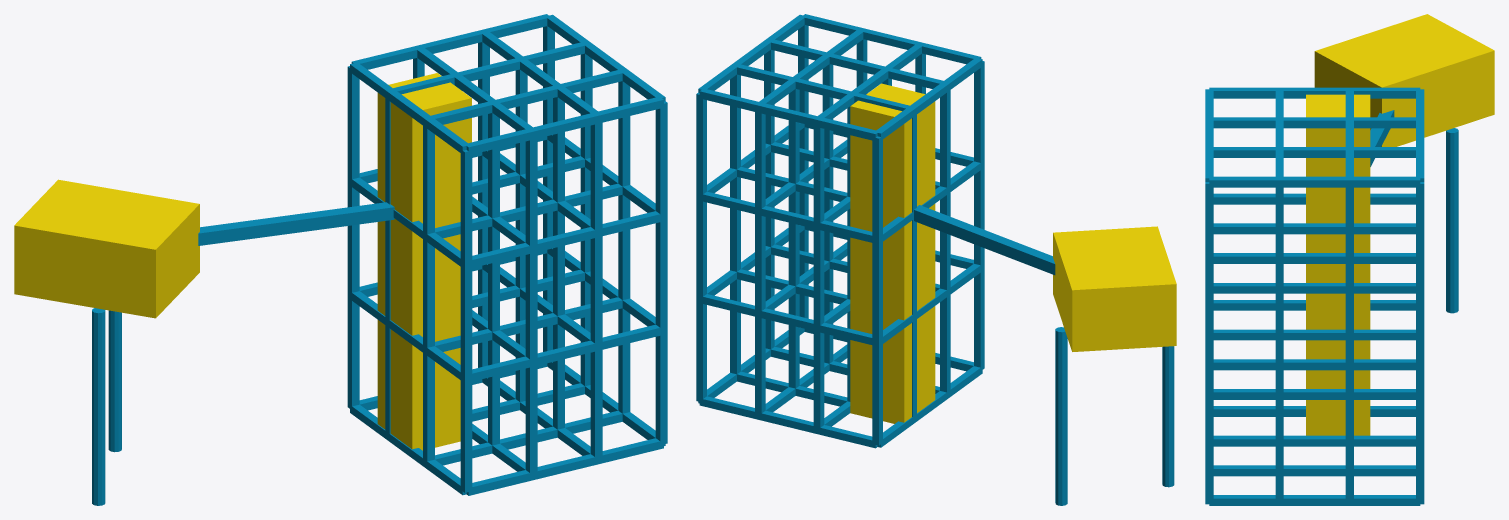
File: folie_tag_025.glb
The picture shows the model from 3 angles, left to right: view 1: azimuth 30°, elevation 25°; view 2: azimuth 150°, elevation 25°; view 3: azimuth 270°, elevation 25°; orthographic projection. The views are drawn at different scales.
Visible parts, largest first — view 1: folie_tag_025_00_cage, folie_tag_025_core, folie_tag_025_01_block, folie_tag_025_line; view 2: folie_tag_025_00_cage, folie_tag_025_core, folie_tag_025_01_block, folie_tag_025_line; view 3: folie_tag_025_00_cage, folie_tag_025_01_block, folie_tag_025_core, folie_tag_025_line.
Part boxes in pixels (x1,y1,x2,y2): folie_tag_025_00_cage: [347, 14, 667, 495]; folie_tag_025_core: [377, 73, 471, 450]; folie_tag_025_01_block: [14, 179, 199, 318]; folie_tag_025_line: [92, 202, 394, 505]; folie_tag_025_00_cage: [696, 14, 984, 448]; folie_tag_025_core: [850, 83, 935, 423]; folie_tag_025_01_block: [1053, 226, 1176, 351]; folie_tag_025_line: [914, 205, 1174, 505]; folie_tag_025_00_cage: [1205, 87, 1424, 505]; folie_tag_025_01_block: [1314, 14, 1494, 146]; folie_tag_025_core: [1306, 94, 1370, 435]; folie_tag_025_line: [1370, 110, 1458, 313].
Size of the model in its own units: 9.86 by 6.14 by 4.94.
